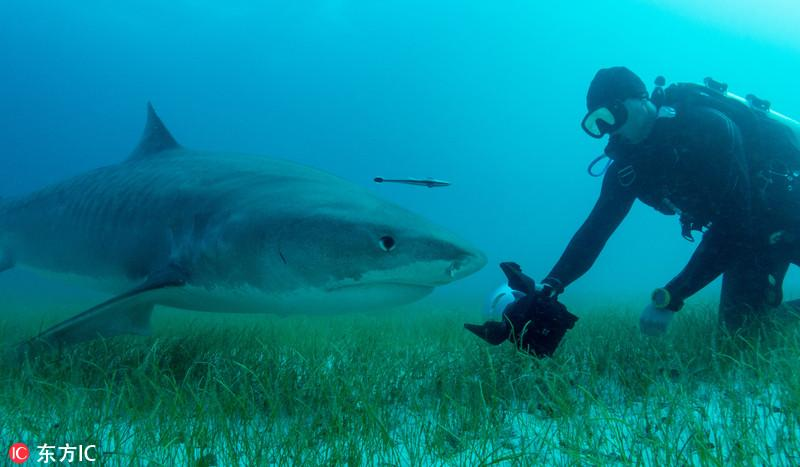shark: (1, 90, 496, 363)
